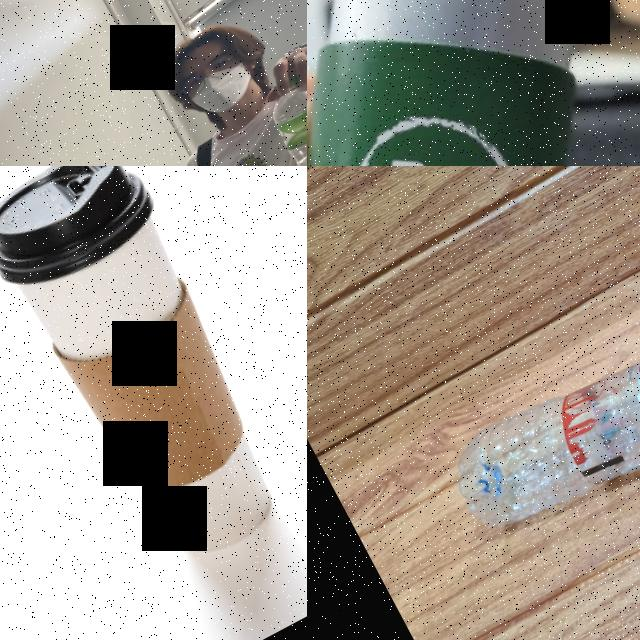bottle: (434, 223, 640, 568), (255, 65, 307, 166)
can: (307, 0, 640, 166)
cup: (0, 166, 307, 583)
